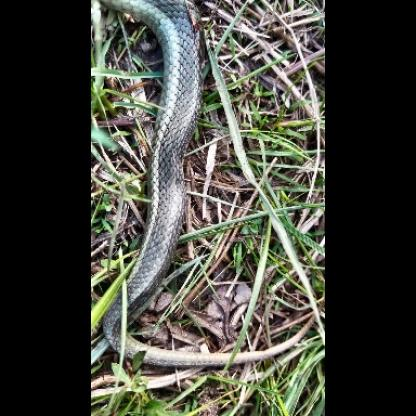Snake: (114, 0, 312, 370)
